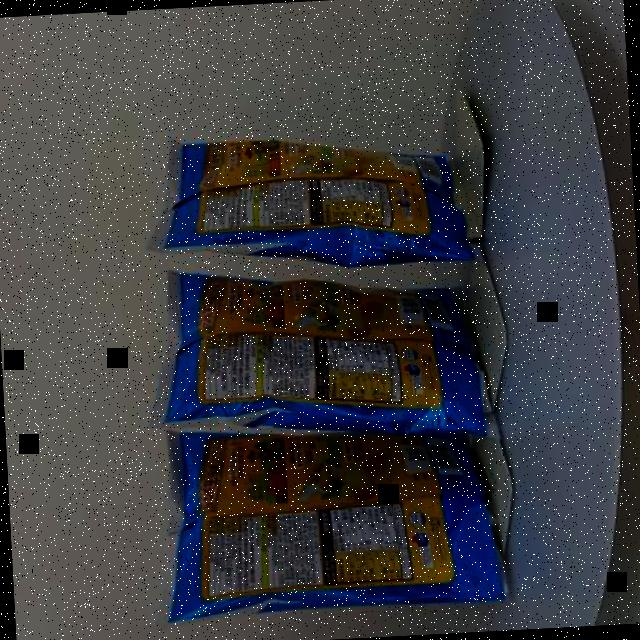snack_bag: (120, 104, 530, 632)
